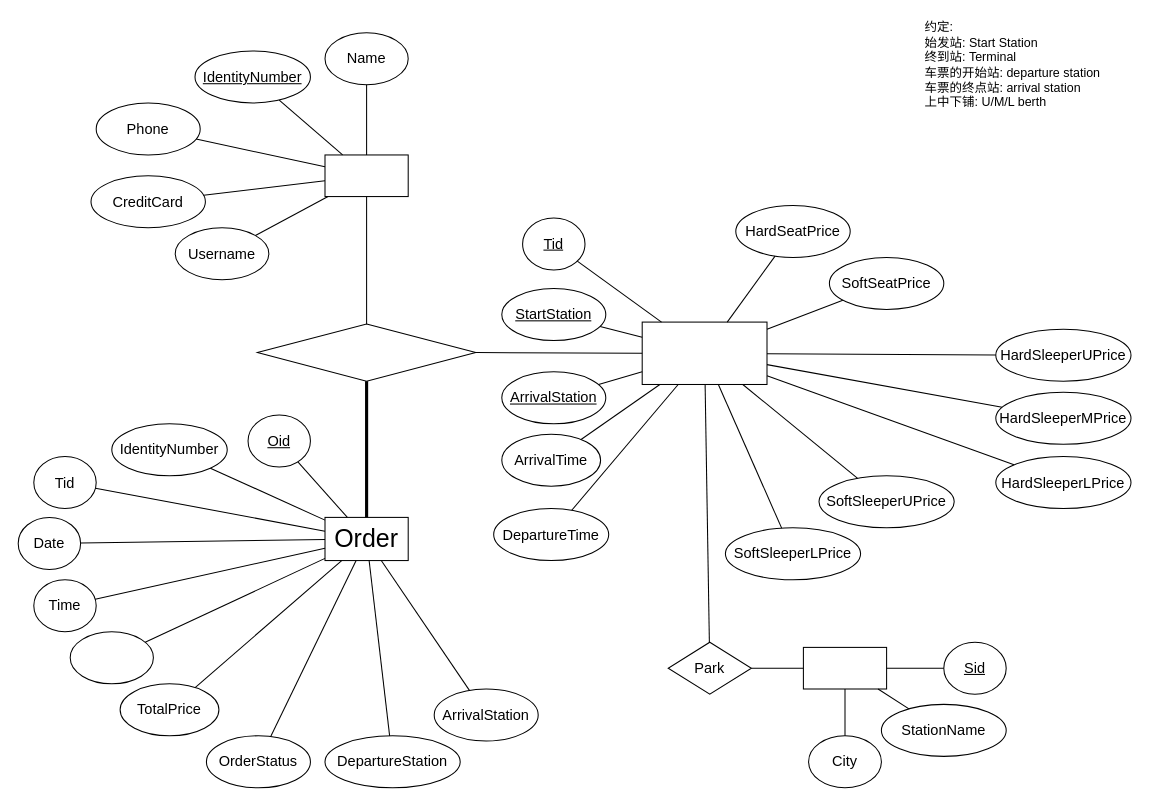
Image size: 1149x806. Some labels were removed from this diagram. Each missing label, with the centre of its shape:
Book/Query: (x=366, y=352)
SeatType: (x=111, y=657)
Station: (x=844, y=667)
TrainItem: (x=704, y=352)
User: (x=366, y=175)
